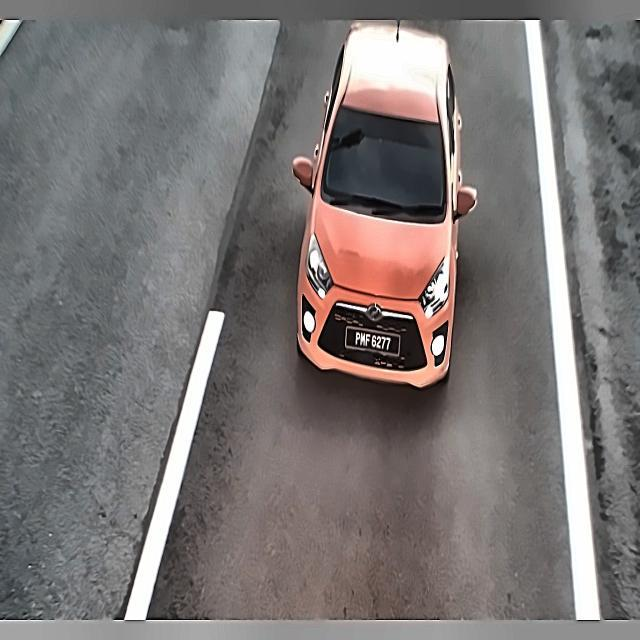car: (344, 317, 401, 365)
